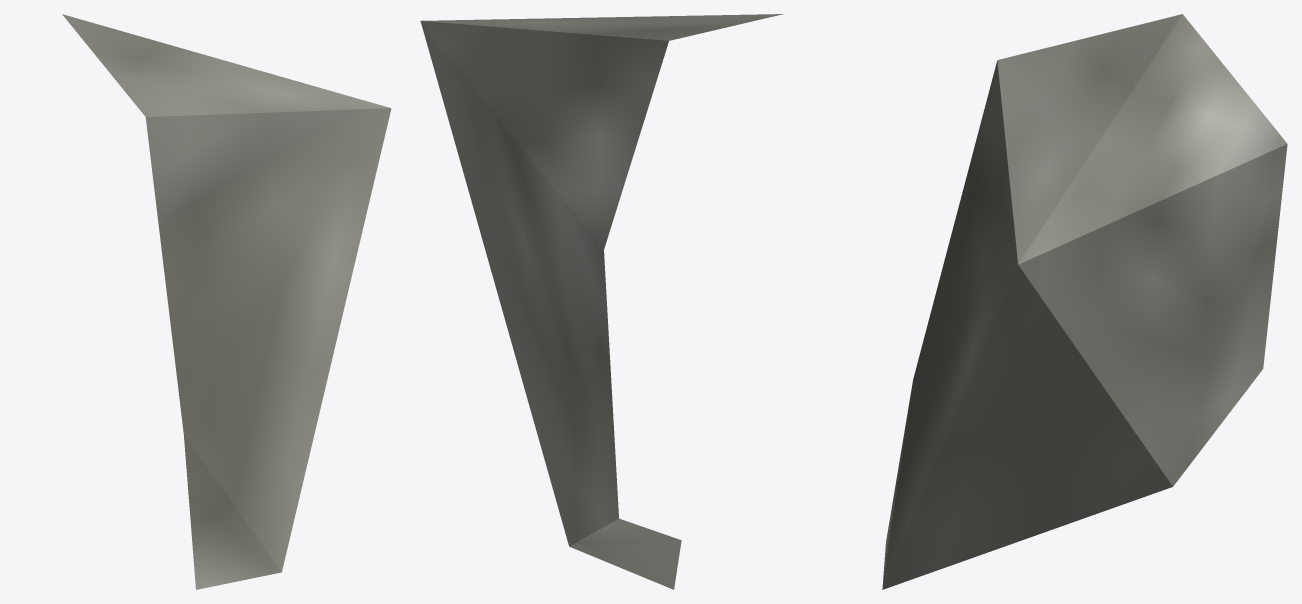
The picture shows the model from 3 angles, left to right: view 1: azimuth 30°, elevation 25°; view 2: azimuth 150°, elevation 25°; view 3: azimuth 270°, elevation 25°; orthographic projection. The views are drawn at different scales.
Size of the model in its own units: 0.1011 by 0.1817 by 0.1256.
1 material, 1 textured.
